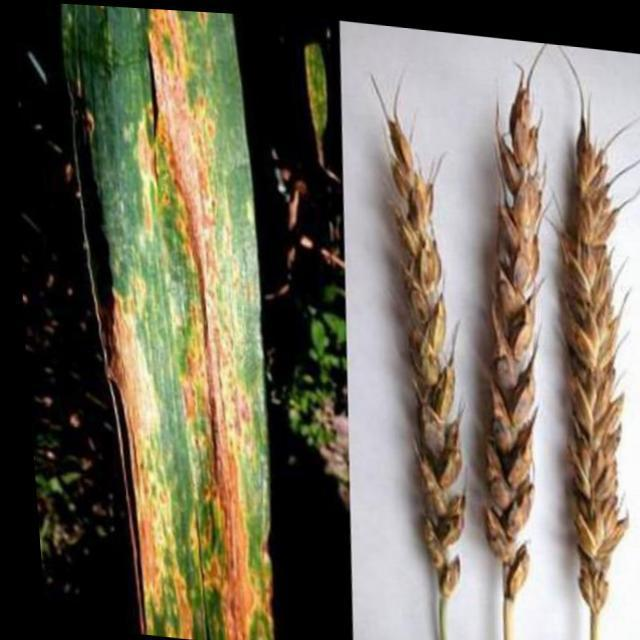Septoria: (59, 2, 268, 639), (554, 104, 619, 639), (381, 107, 456, 569), (477, 59, 540, 596)
